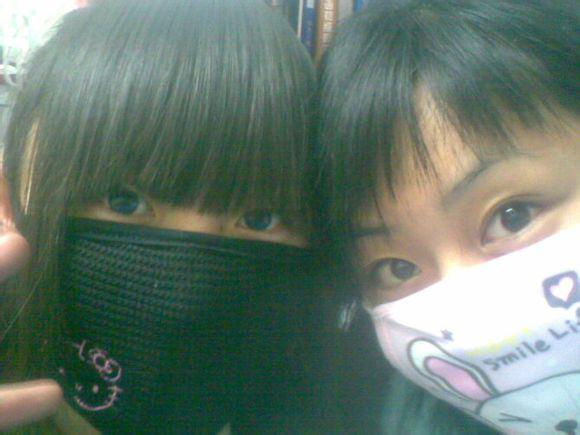OK: (350, 151, 580, 431), (65, 169, 313, 413)
